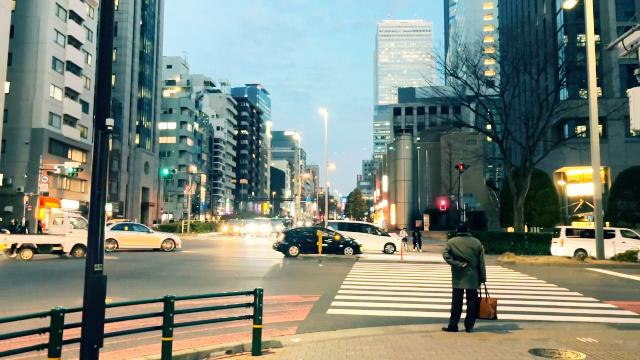berdiri: (442, 219, 494, 335)
